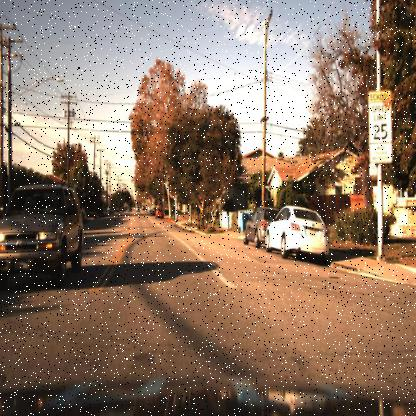car: (0, 178, 85, 297), (263, 204, 332, 264), (242, 203, 283, 249), (243, 201, 268, 250), (154, 206, 166, 221), (133, 204, 146, 216), (149, 206, 157, 218)
